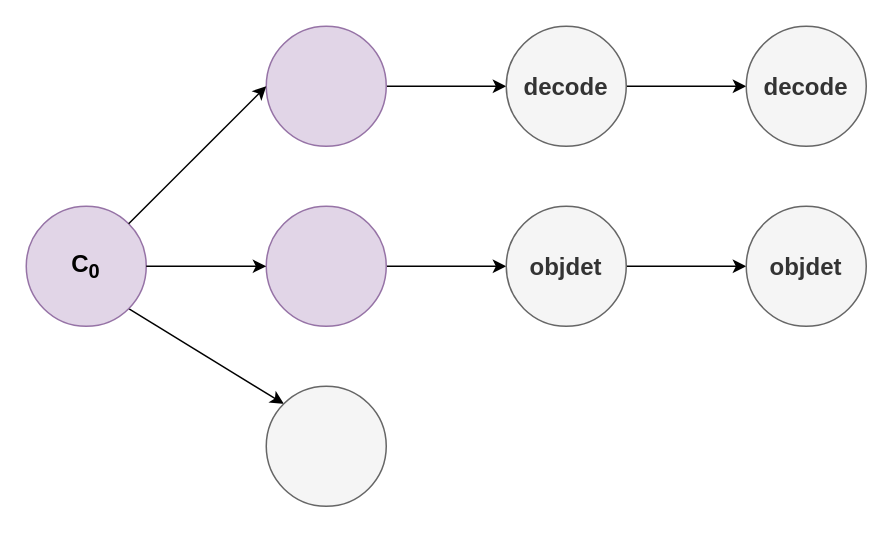
Image size: 893x533. Some labels were removed from this diagram. Here are the shapes that lost their labels. From the top down, the centre of each, then its label:
the point at 325,85: C 1
the point at 325,265: C 2
the point at 325,445: download
